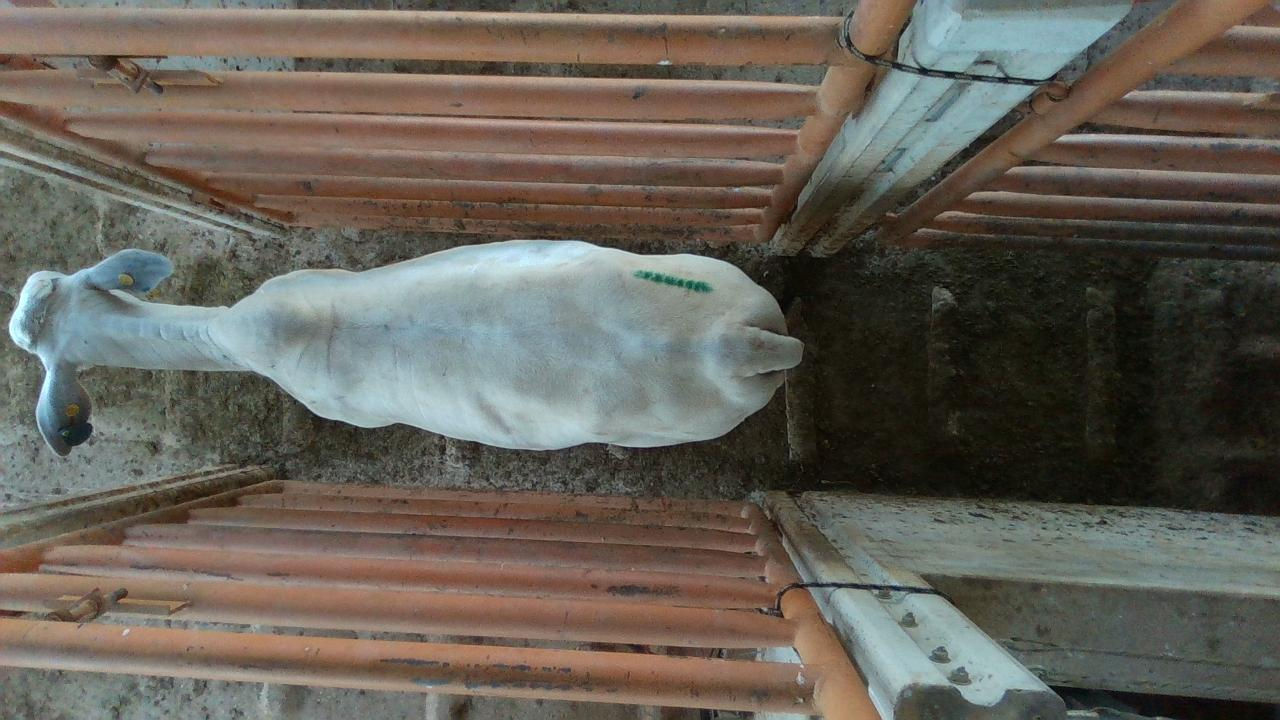cattle: (8, 236, 805, 456)
